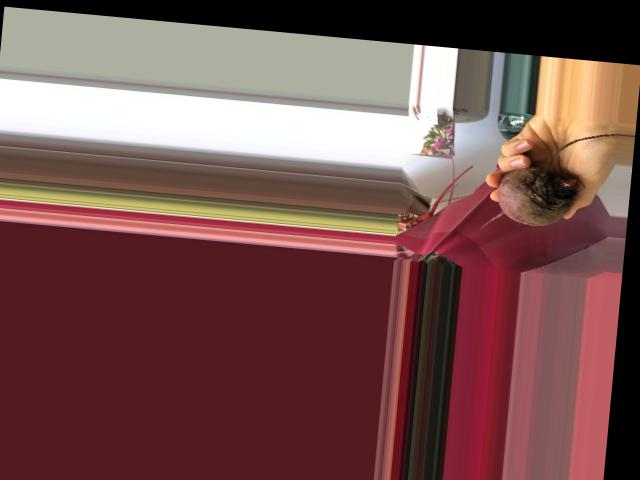beet: (478, 121, 616, 243)
